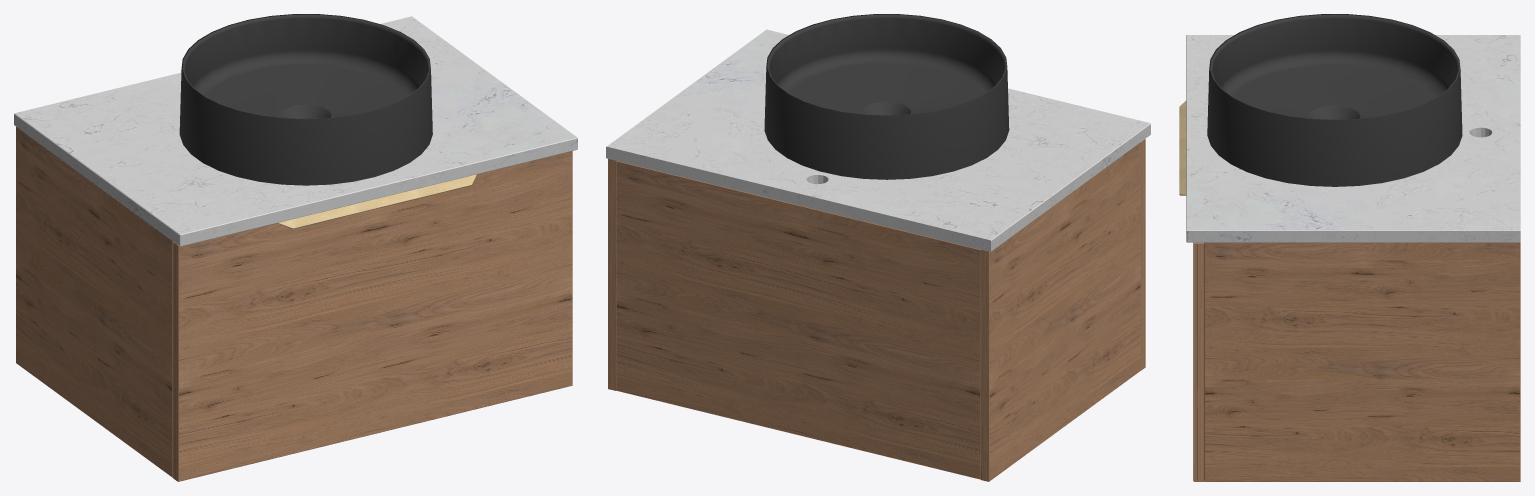
3 renders of one model, left to right at view 1: azimuth 30°, elevation 25°; view 2: azimuth 150°, elevation 25°; view 3: azimuth 270°, elevation 25°, orthographic. The views are drawn at different scales.
Parts seen in each view (by area): view 1: DR_Front, BT, BAS_SmartB_7405_D380_BM, Carcass, HDL_Blaze2_350_BR; view 2: Carcass, BT, BAS_SmartB_7405_D380_BM, DR_Front; view 3: Carcass, BAS_SmartB_7405_D380_BM, BT, DR_Front, HDL_Blaze2_350_BR.
Boxes of the visible parts, bbox=[...] form: DR_Front: bbox=[173, 151, 572, 481]; BT: bbox=[14, 16, 577, 246]; BAS_SmartB_7405_D380_BM: bbox=[179, 14, 432, 185]; Carcass: bbox=[16, 127, 173, 477]; HDL_Blaze2_350_BR: bbox=[278, 174, 476, 229]; Carcass: bbox=[608, 142, 1140, 481]; BT: bbox=[606, 29, 1150, 251]; BAS_SmartB_7405_D380_BM: bbox=[764, 14, 1009, 179]; DR_Front: bbox=[1140, 139, 1145, 370]; Carcass: bbox=[1204, 242, 1520, 481]; BAS_SmartB_7405_D380_BM: bbox=[1207, 14, 1462, 186]; BT: bbox=[1186, 35, 1520, 242]; DR_Front: bbox=[1193, 242, 1204, 481]; HDL_Blaze2_350_BR: bbox=[1179, 100, 1186, 195].
Bounding box in the file's own units: 0.7 × 0.5305 × 0.5153.
7 materials, 3 textured.
